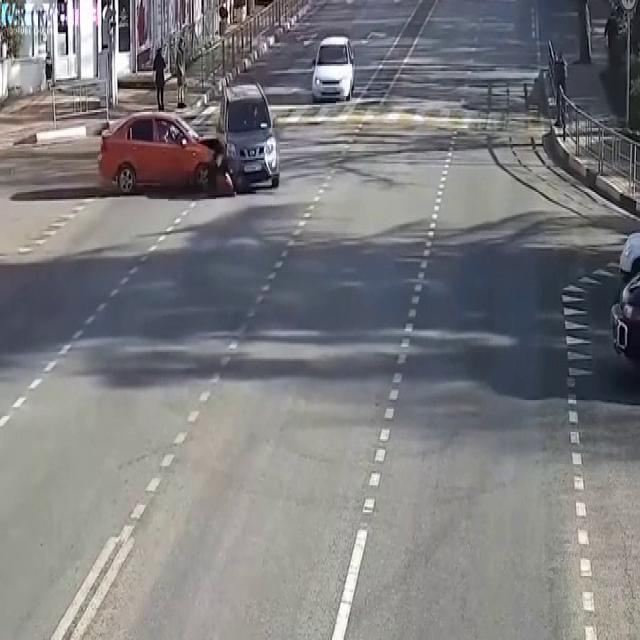accident: (156, 92, 290, 213)
